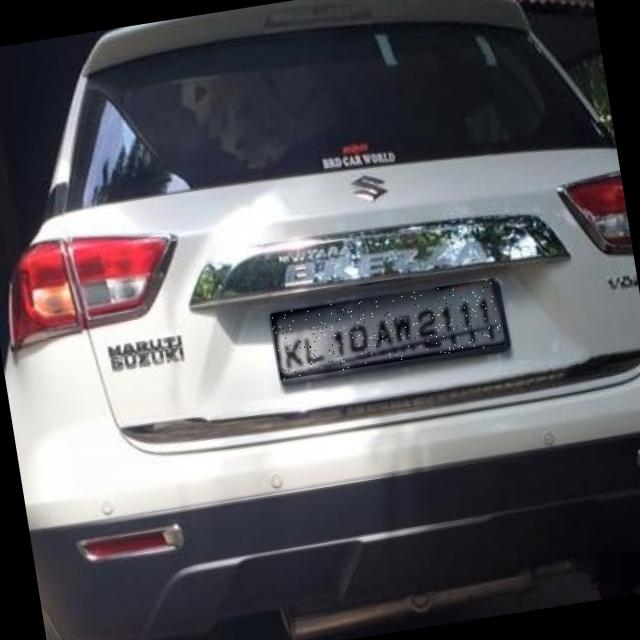Plate: (272, 279, 506, 381)
